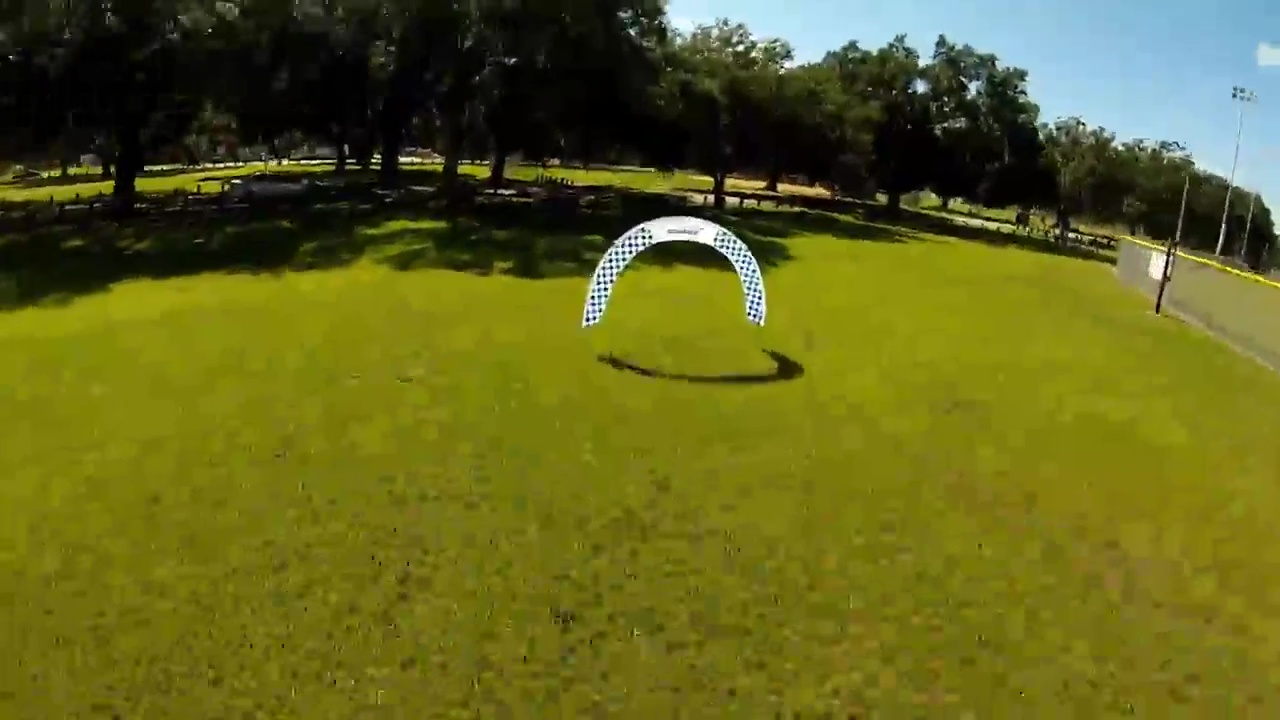gate: (582, 215, 772, 333)
